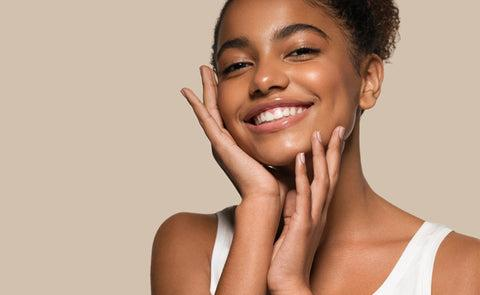Normal-Skin: (229, 11, 330, 156)
